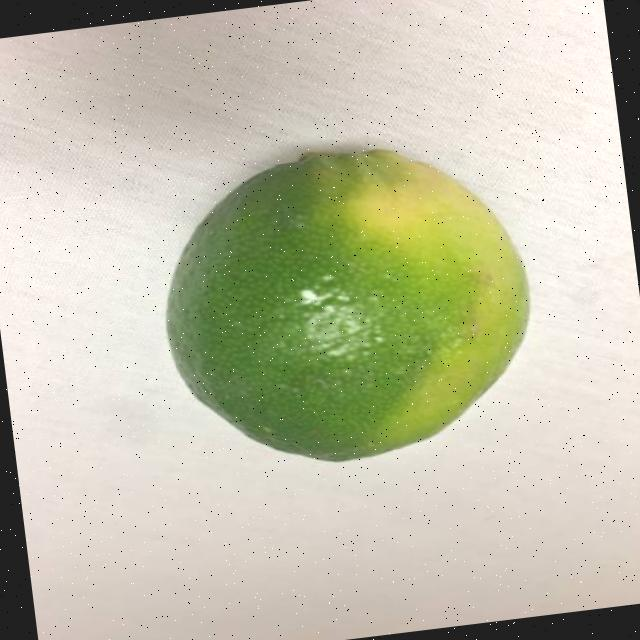Lemon: (144, 127, 550, 484)
